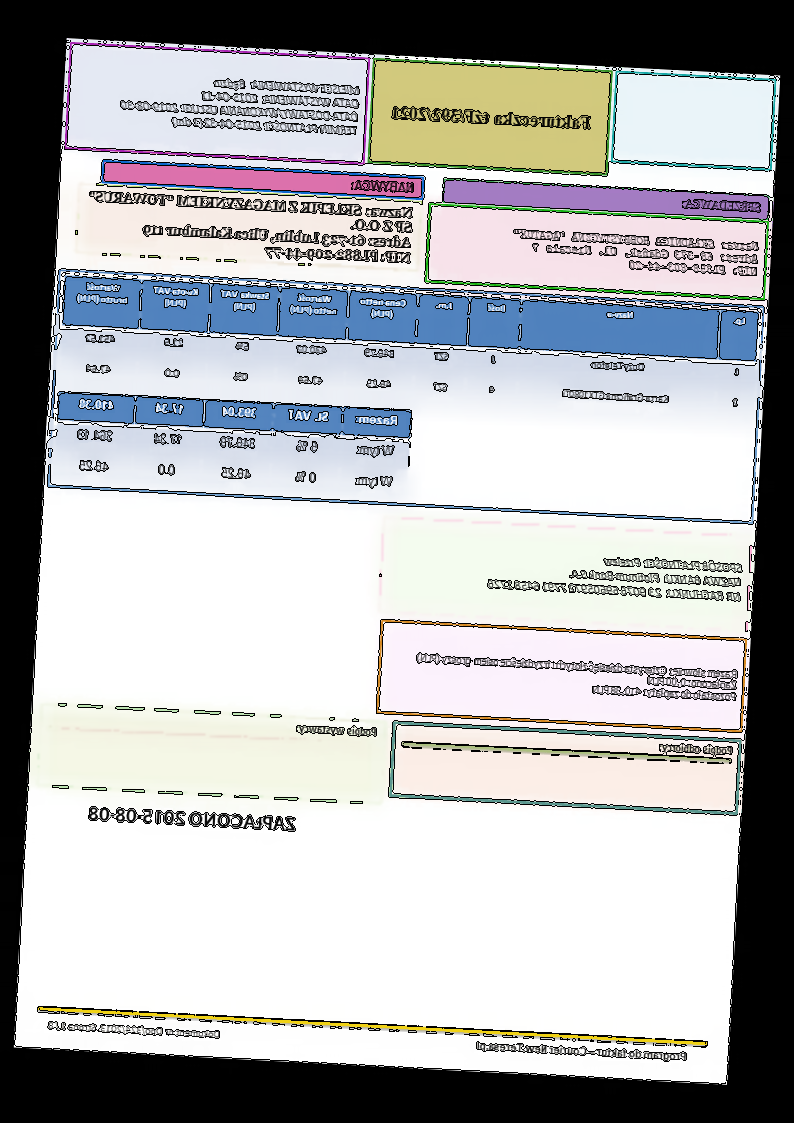Table: (58, 273, 760, 425), (53, 390, 413, 501)
TextBox: (84, 189, 416, 266), (414, 650, 738, 703), (118, 72, 362, 138), (486, 547, 745, 603), (512, 226, 761, 278), (88, 804, 297, 832), (475, 1038, 690, 1065), (390, 103, 593, 131), (46, 1018, 222, 1042), (679, 196, 764, 215), (295, 721, 379, 740), (657, 740, 735, 758), (350, 176, 416, 195)
